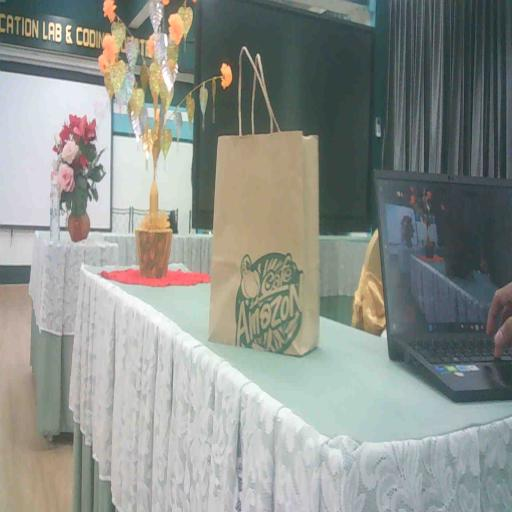bag: (203, 114, 322, 367)
